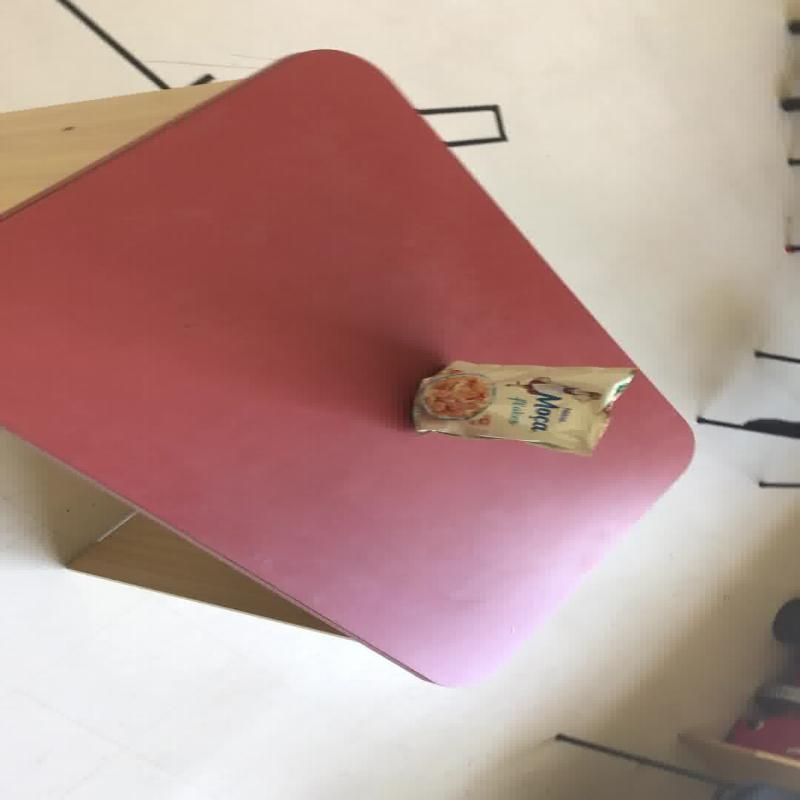corn flakes: (409, 359, 637, 457)
